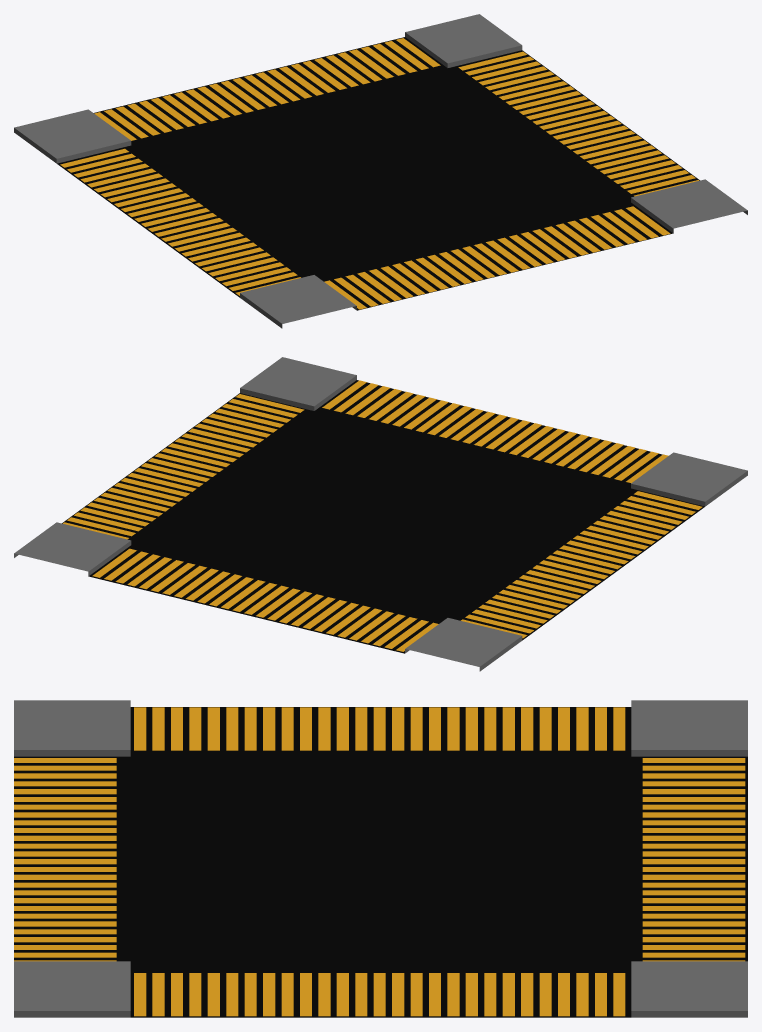
The model's file is RoadIntersection.fbx.
3 renders of one model, top to bottom at view 1: azimuth 30°, elevation 25°; view 2: azimuth 150°, elevation 25°; view 3: azimuth 270°, elevation 25°, orthographic. The views are drawn at different scales.
Visible parts, largest first — view 1: Intersect; view 2: Intersect; view 3: Intersect.
Boxes of the visible parts, box(x1,y1,x2,y2) form: Intersect: box(14, 14, 747, 328); Intersect: box(14, 357, 747, 671); Intersect: box(14, 700, 747, 1017).
Bounding box in the file's own units: 1196 × 11.96 × 1195.
